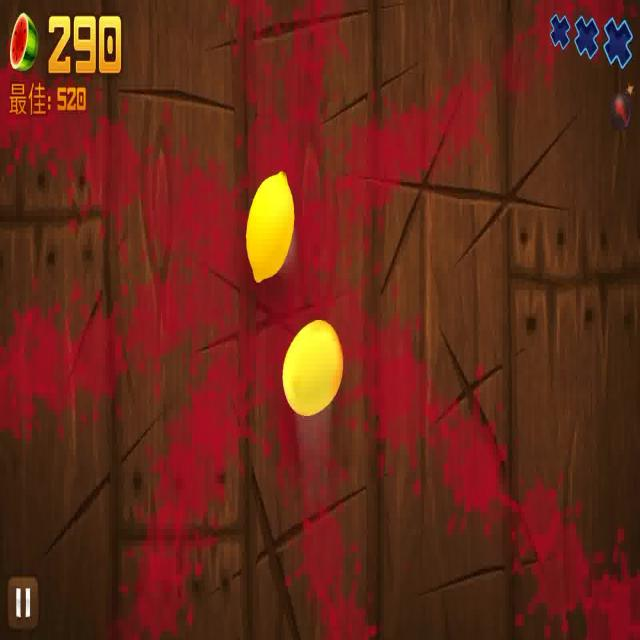fruit: (277, 322, 353, 423), (243, 163, 298, 291)
